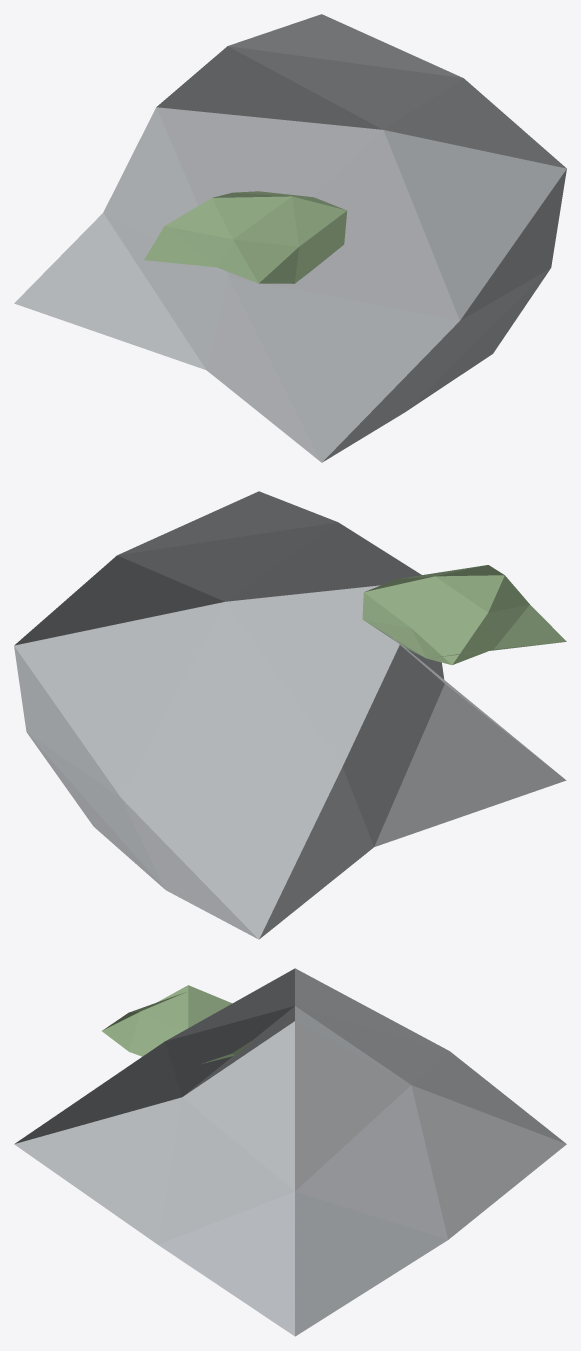
The model's file is boulder_v25.glb.
The picture shows the model from 3 angles, top to bottom: view 1: azimuth 30°, elevation 25°; view 2: azimuth 150°, elevation 25°; view 3: azimuth 270°, elevation 25°; orthographic projection. The views are drawn at different scales.
Visible parts, largest first — view 1: lod0; view 2: lod0; view 3: lod0.
Boxes of the visible parts, box(x1,y1,x2,y2) form: lod0: box(14, 14, 566, 462); lod0: box(14, 491, 566, 939); lod0: box(14, 968, 566, 1336).
Size of what is drawn, in the model's own units: 2.16 by 1.67 by 2.28.
